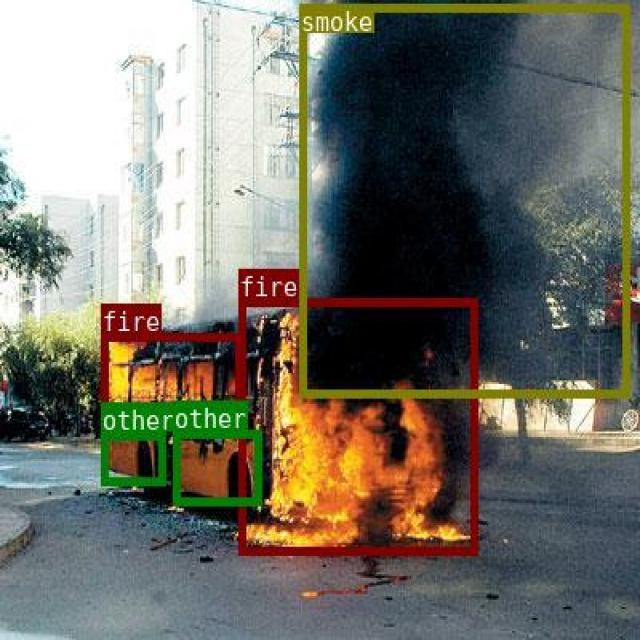fire: (238, 297, 476, 554), (99, 332, 241, 420)
smoke: (298, 3, 629, 395)
